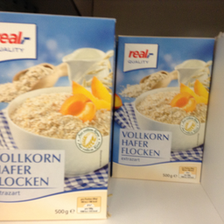cereal: (1, 11, 118, 222), (112, 35, 215, 182)
